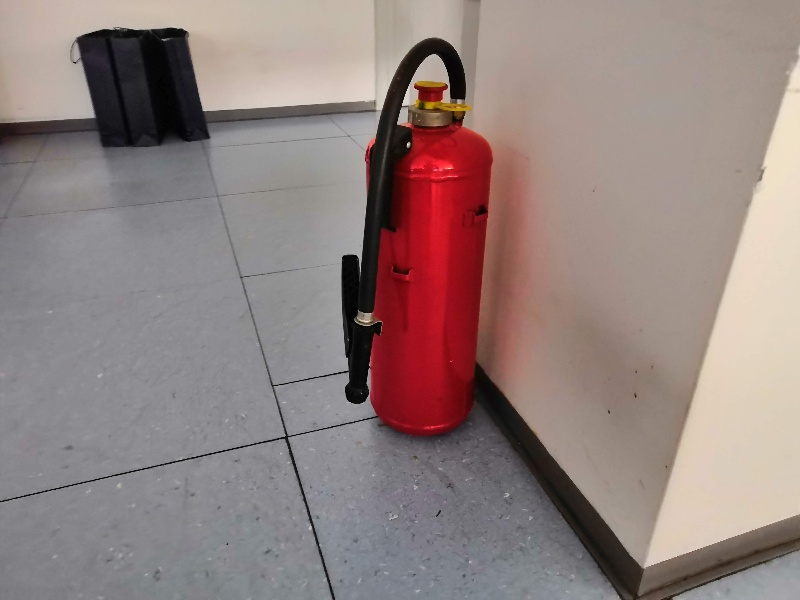vataparat: (342, 38, 494, 437)
